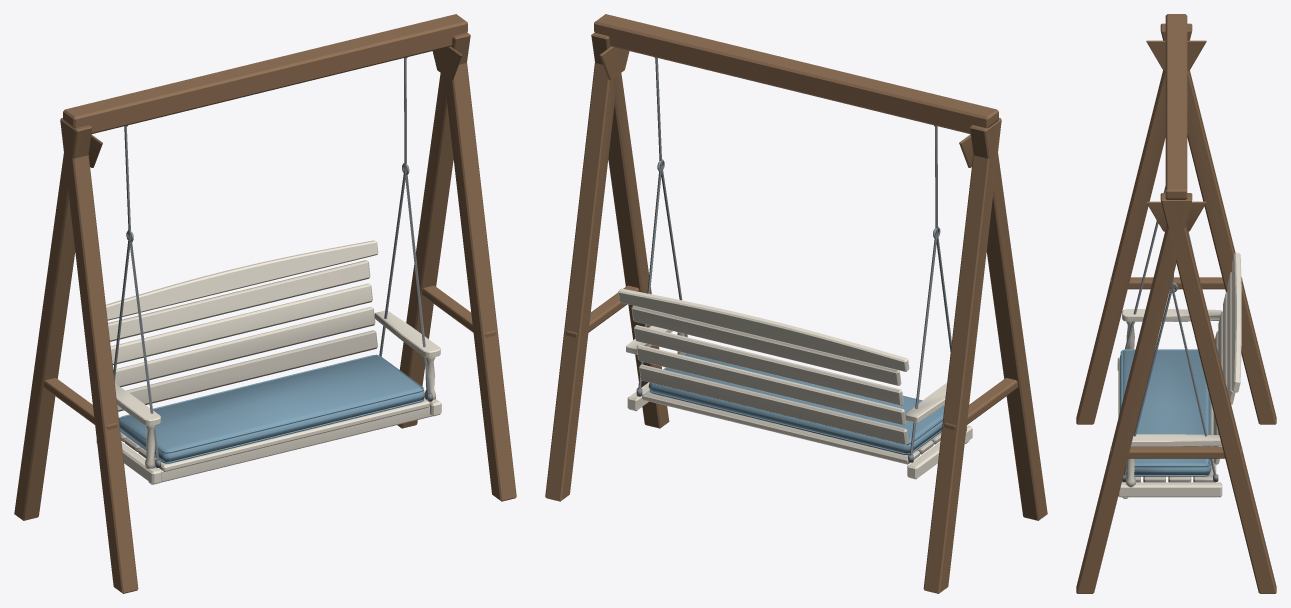
Rendered from porchSwing.glb.
3 renders of one model, left to right at view 1: azimuth 30°, elevation 25°; view 2: azimuth 150°, elevation 25°; view 3: azimuth 270°, elevation 25°, orthographic. The views are drawn at different scales.
Parts seen in each view (by area): view 1: seat, frame; view 2: frame, seat; view 3: frame, seat.
Boxes of the visible parts, x1,y1,x2,y2 form: seat: (96,57,441,484); frame: (14,14,516,593); frame: (545,14,1047,593); seat: (618,57,972,479); frame: (1076,14,1276,593); seat: (1117,186,1241,498).
Bounding box in the file's own units: 1.92 × 2.05 × 0.9191.
